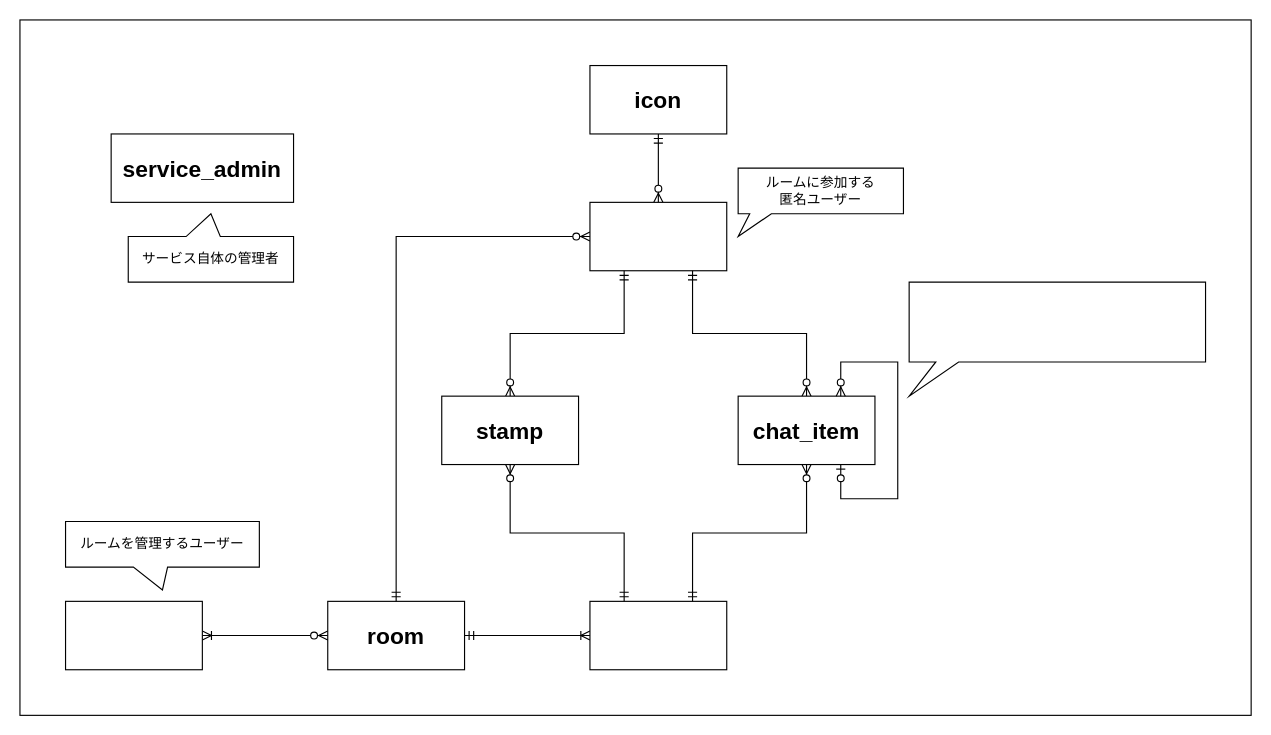
The diagram is 1271 pixels wide and 735 high, and some of its shapes have lost their labels. The shapes that lost their labels are listed below. From the top down, each one's centre as x and y in pixels, then its label:
At (x=658, y=236): "user".
At (x=1057, y=338): "chat_itemは1つのquoteを持つことがある。 また、あるchat_itemは複数のchat_itemのquoteになり得る。".
At (x=133, y=635): "admin".
At (x=658, y=635): "topic".
